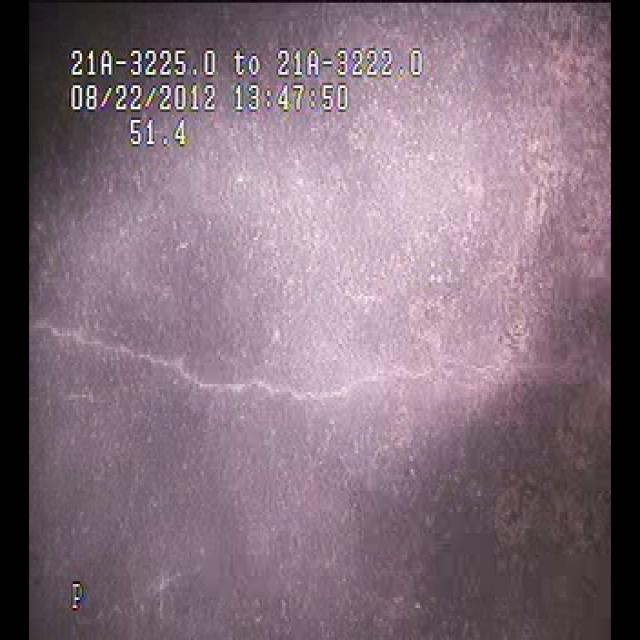Crack: (39, 276, 542, 450)
